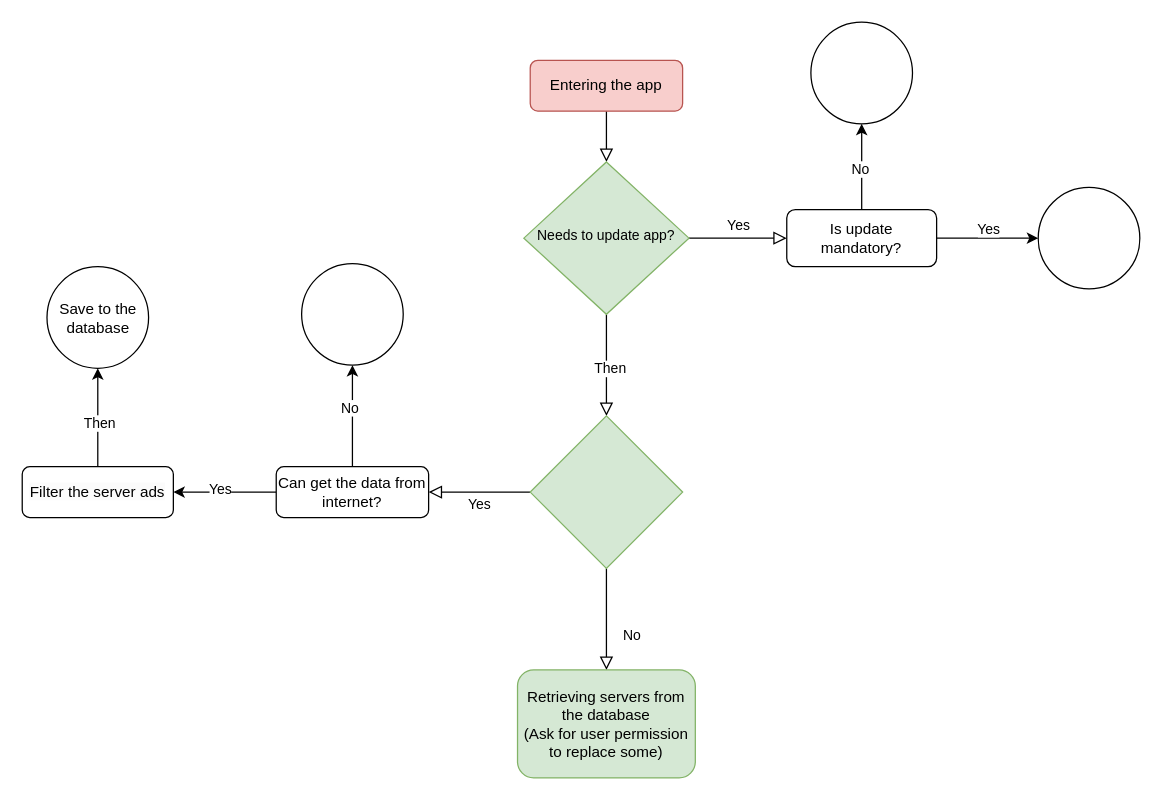
Image size: 1162x800. Some labels were removed from this diagram. Each missing label, with the box of its shape:
Needs to get free servers? (Every 10 min): (529, 415, 683, 568)
Show error to the user in UI: (300, 262, 403, 365)
Update now or do it later: (810, 21, 912, 124)
Update or leave the application: (1037, 186, 1140, 289)
